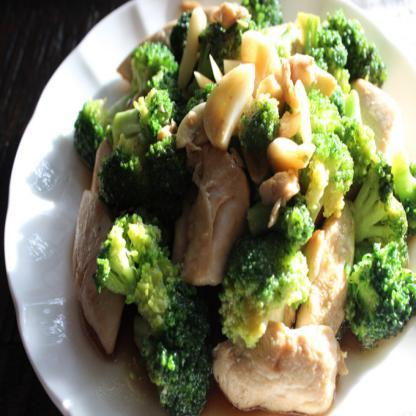broccoli: (76, 0, 416, 415)
